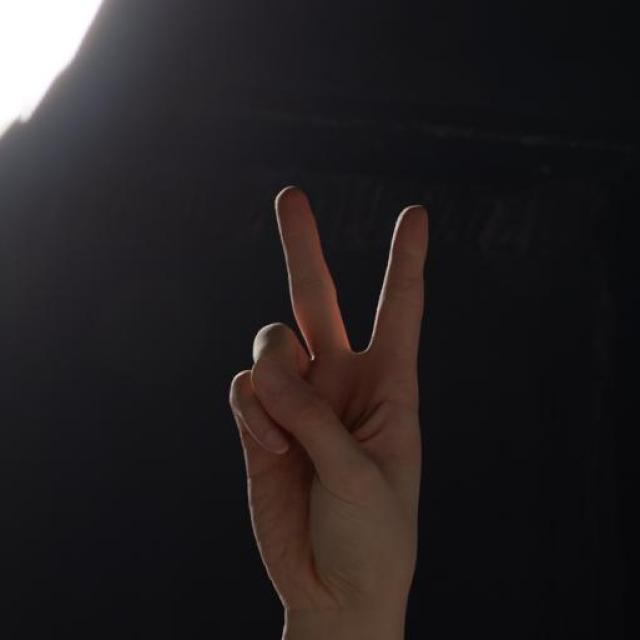V: (224, 182, 442, 623)
